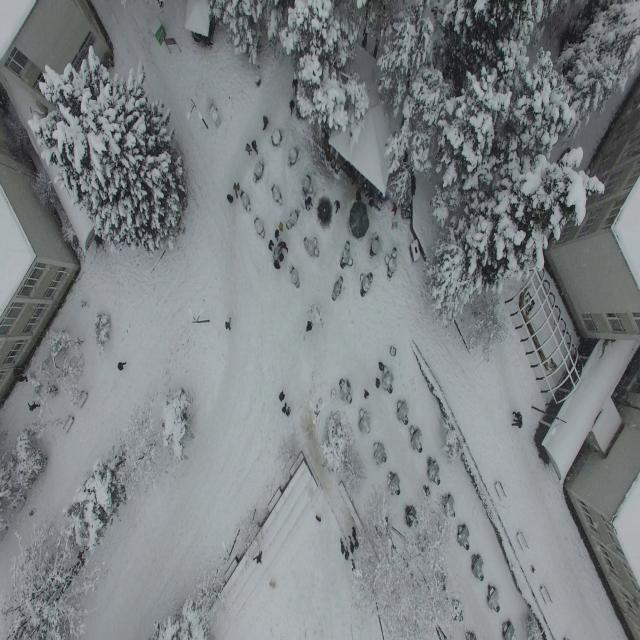p3rson: (77, 546, 89, 560), (253, 550, 262, 564), (28, 401, 40, 411), (348, 535, 354, 553), (292, 78, 298, 95), (262, 116, 269, 130), (233, 182, 239, 198), (252, 140, 258, 155), (279, 242, 288, 252), (512, 411, 522, 420), (512, 419, 522, 428), (344, 546, 350, 561), (225, 317, 231, 331), (245, 144, 252, 156), (334, 200, 340, 214), (391, 203, 398, 215), (306, 320, 313, 332), (423, 484, 430, 496), (365, 191, 375, 199), (304, 200, 311, 211), (226, 194, 234, 203), (290, 100, 295, 114), (352, 526, 357, 540), (351, 558, 356, 572), (340, 537, 344, 554), (17, 376, 28, 382), (279, 391, 285, 402), (364, 388, 370, 399), (118, 362, 126, 370), (274, 260, 281, 269), (269, 240, 274, 252), (275, 229, 280, 241), (356, 191, 362, 201), (282, 402, 287, 414), (354, 538, 359, 550), (286, 406, 291, 417), (307, 197, 313, 206), (378, 362, 384, 371), (369, 198, 374, 207), (362, 183, 366, 194), (376, 377, 380, 388), (279, 222, 283, 232), (279, 253, 284, 261)
